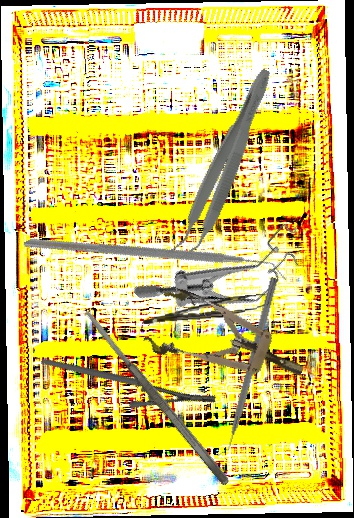Chopper: (22, 143, 288, 379), (212, 274, 279, 460)
Needle Holder: (39, 306, 220, 454)
Spatula Surgical: (81, 306, 232, 488)
Speculum: (130, 177, 319, 363), (140, 282, 315, 405)
Tissue Forceps: (165, 61, 280, 267), (141, 293, 269, 325)
